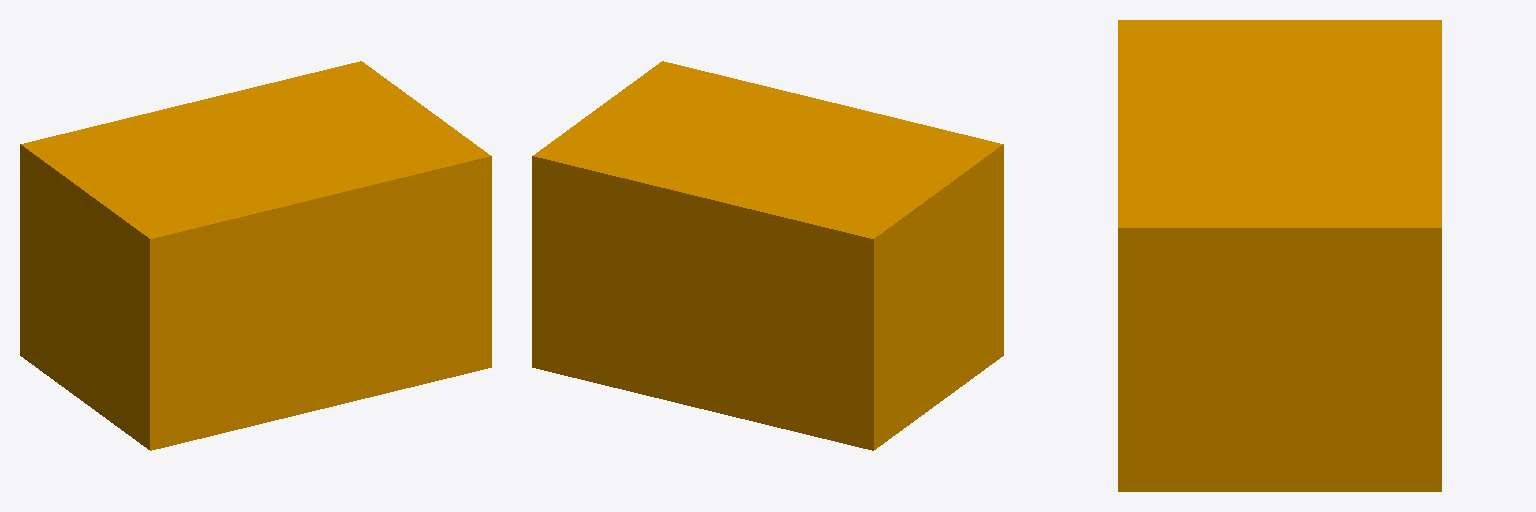
robot.urdf — object:
<?xml version="1.0"?>
<!-- Auto-generated by tools/gen_primitive_objects.py. kind=box dims=(0.093556, 0.061663, 0.05547) -->
<robot name="object">
  <link name="object">
    <visual>
      <origin xyz="0 0 0"/>
      <geometry>
        <box size="0.093556 0.061663 0.055470"/>
      </geometry>
    </visual>
    <collision>
      <origin xyz="0 0 0"/>
      <geometry>
        <box size="0.093556 0.061663 0.055470"/>
      </geometry>
    </collision>
    <inertial>
      <mass value="0.064001"/>
      <inertia ixx="0.00003669" ixy="0.0" ixz="0.0" iyy="0.00006309" iyz="0.0" izz="0.00006696"/>
    </inertial>
  </link>
</robot>

--- What the picture shows (computed from the rendered views, not written in the file) ---
The picture shows the robot from 3 angles, left to right: view 1: azimuth 30°, elevation 25°; view 2: azimuth 150°, elevation 25°; view 3: azimuth 270°, elevation 25°; orthographic projection.
Model object with 1 links and 0 joints (none), rooted at object, posed all joints at 0.
Links seen in each view (by area): view 1: object; view 2: object; view 3: object.
Link boxes in pixels (left/top/right/bottom): object: left=20, top=61, right=491, bottom=450; object: left=532, top=61, right=1003, bottom=450; object: left=1118, top=20, right=1441, bottom=491.
Bounding box of the posed robot: 0.0936 × 0.0617 × 0.0555 m (x, y, z).
Geometry: primitives only (box / cylinder / sphere), no mesh files.
